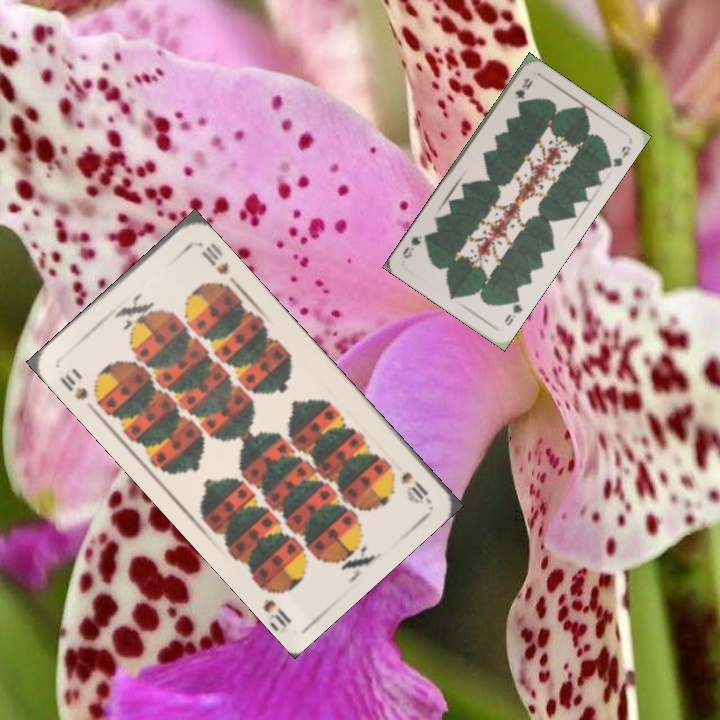G9: (500, 292, 526, 329), (510, 73, 536, 101)
S10: (56, 370, 104, 408), (397, 467, 431, 505)
